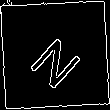N_NE: (23, 22, 87, 88)
